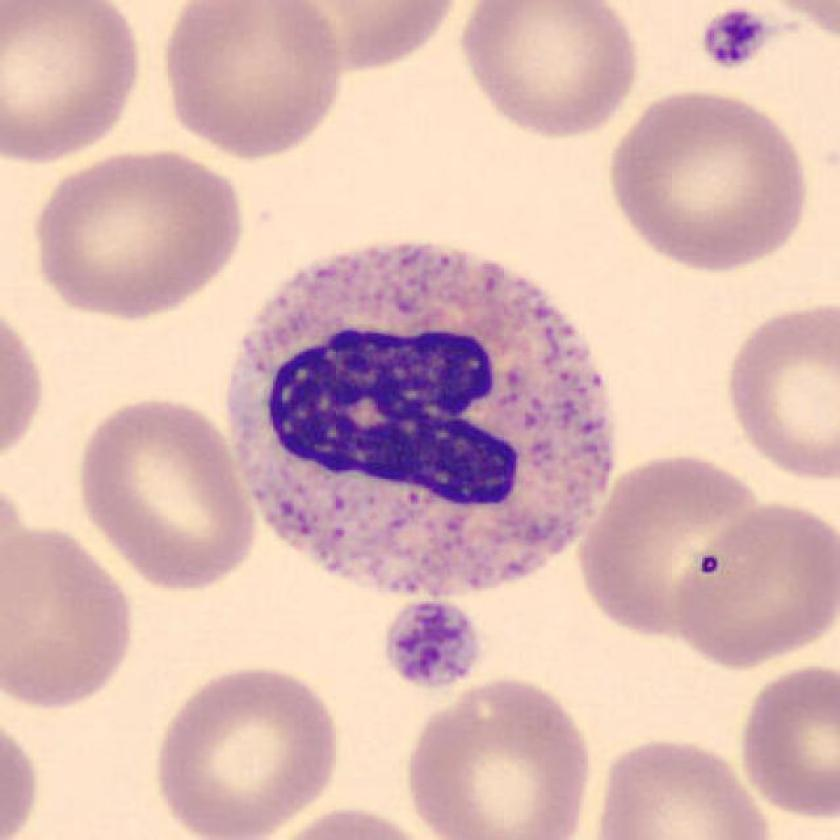neutrophil: (228, 244, 614, 597)
